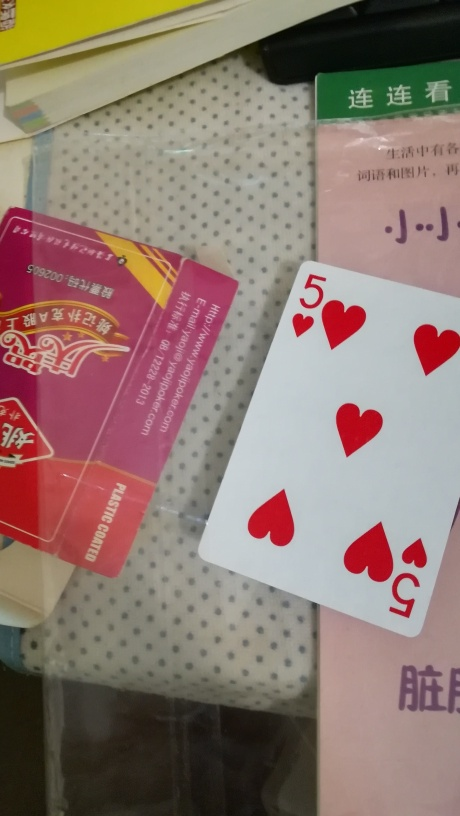hx 5: (195, 258, 460, 637)
